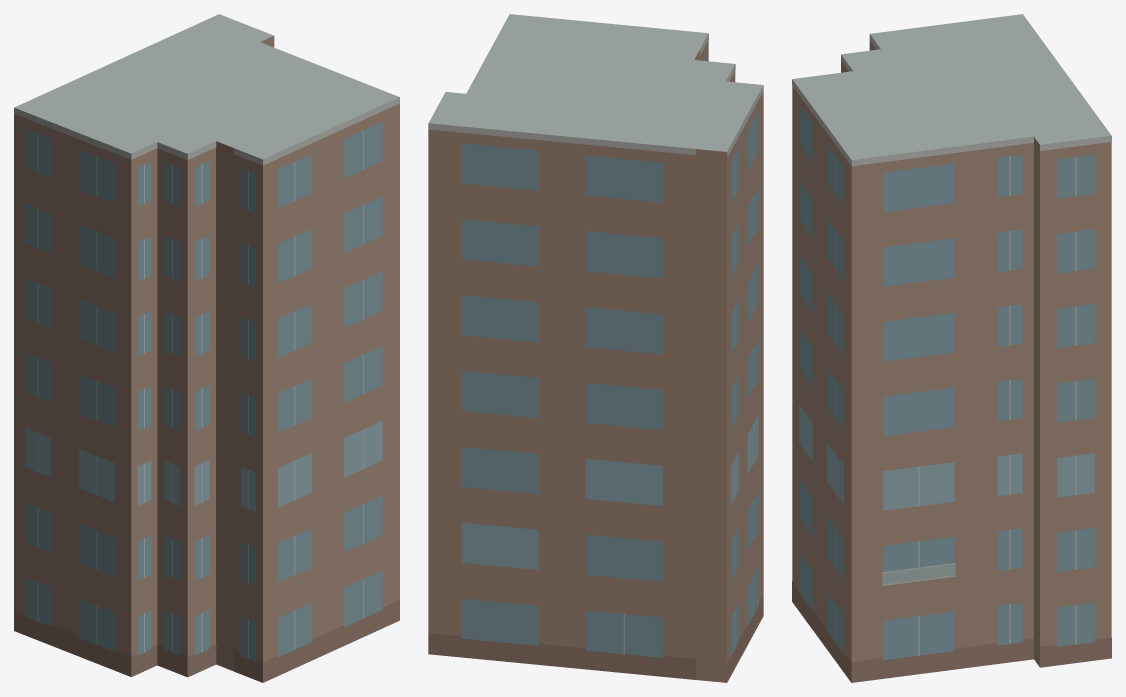
The model's file is survey-upis-32998409.glb.
3 renders of one model, left to right at view 1: azimuth 30°, elevation 25°; view 2: azimuth 150°, elevation 25°; view 3: azimuth 270°, elevation 25°, orthographic.
Visible parts, largest first — view 1: survey-upis-32998409.tmp; view 2: survey-upis-32998409.tmp; view 3: survey-upis-32998409.tmp.
Part boxes in pixels (bbox=[...]): survey-upis-32998409.tmp: bbox=[14, 14, 399, 682]; survey-upis-32998409.tmp: bbox=[428, 14, 763, 682]; survey-upis-32998409.tmp: bbox=[792, 14, 1111, 682].
Bounding box in the file's own units: 12.49 × 20.8 × 11.54.
